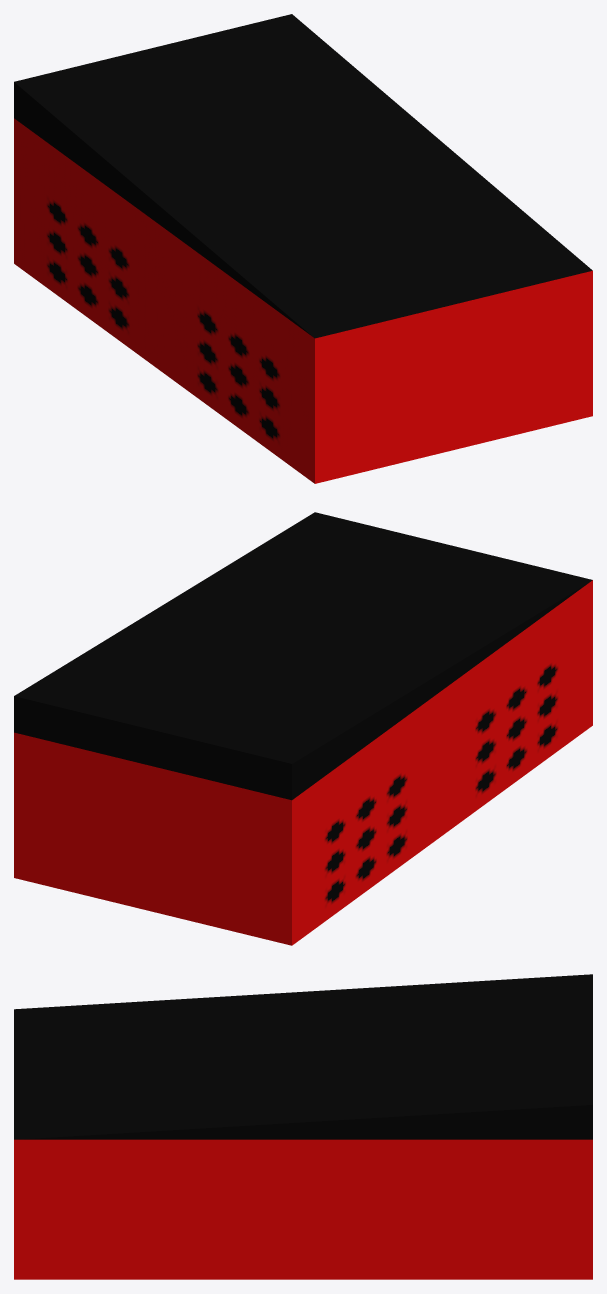
Rendered from Building_FireTruckShed.fbx.
3 views of the same model, one above another, from view 1: azimuth 30°, elevation 25°; view 2: azimuth 150°, elevation 25°; view 3: azimuth 270°, elevation 25° (orthographic). The views are drawn at different scales.
Parts seen in each view (by area): view 1: Building_FireTruckShed; view 2: Building_FireTruckShed; view 3: Building_FireTruckShed.
Part boxes in pixels (x1,y1,x2,y2): Building_FireTruckShed: (14, 14, 592, 483); Building_FireTruckShed: (14, 512, 592, 945); Building_FireTruckShed: (14, 974, 592, 1279).
Size of the model in its own units: 8 by 5 by 15.
